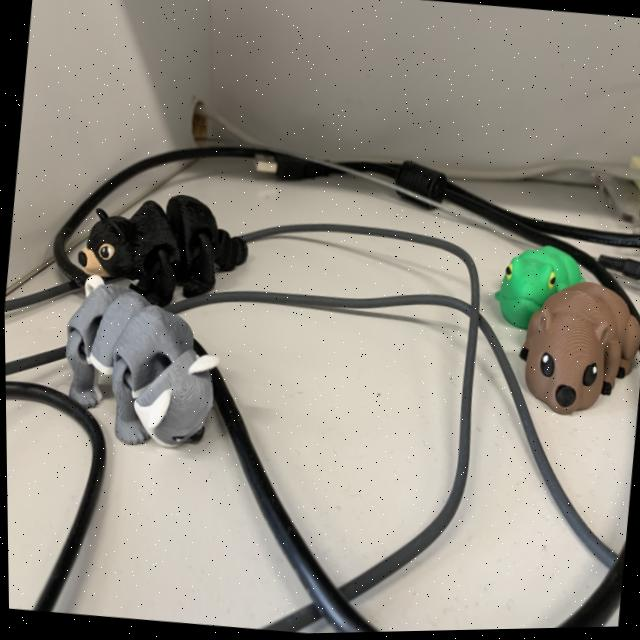frog: (487, 232, 591, 340)
koala: (48, 266, 233, 470)
tassie devil: (67, 177, 263, 309)
wombat: (511, 272, 640, 425)
